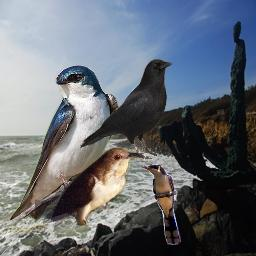Crow: (79, 57, 174, 160)
Cuckoo: (35, 147, 144, 226), (141, 164, 181, 245)
Swallow: (9, 63, 121, 223)
